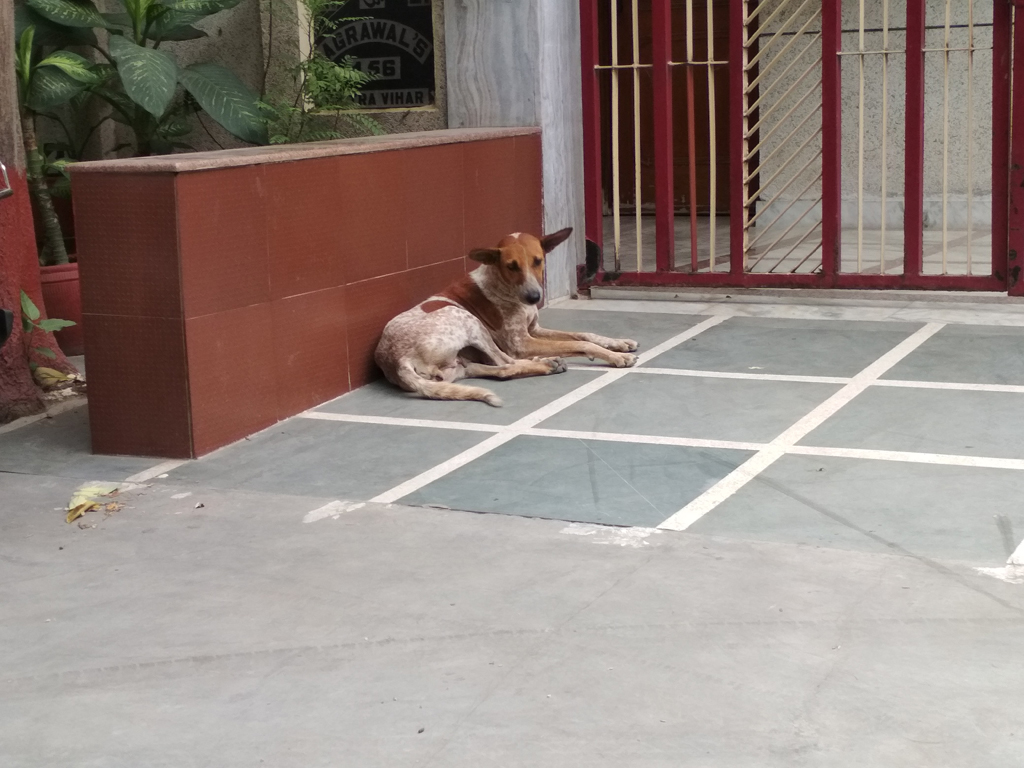dog: (374, 220, 640, 409)
